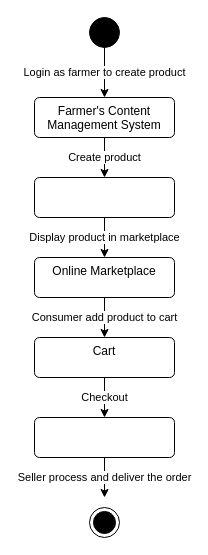
Some shapes in this 208 by 555 pixel diagram are drawn without their labels. The shapes that lost their labels are listed below. From the top down, each one's centre as x and y in pixels, then its label:
At point 104,197: "Product list".
At point 104,437: "Order".
